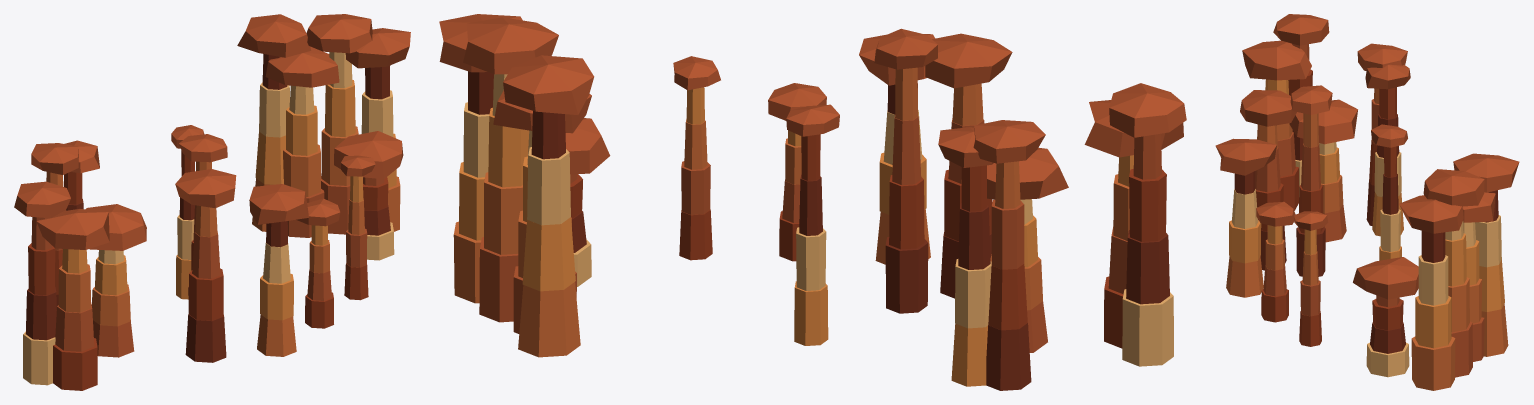
The model's file is W5_Mid_Hoodoos.fbx.
3 views of the same model, side by side, from view 1: azimuth 30°, elevation 25°; view 2: azimuth 150°, elevation 25°; view 3: azimuth 270°, elevation 25° (orthographic). The views are drawn at different scales.
Parts seen in each view (by area): view 1: W5_Mid_Hoodoos; view 2: W5_Mid_Hoodoos; view 3: W5_Mid_Hoodoos.
Boxes of the visible parts, bbox=[...] form: W5_Mid_Hoodoos: bbox=[14, 14, 410, 390]; W5_Mid_Hoodoos: bbox=[439, 14, 1186, 390]; W5_Mid_Hoodoos: bbox=[1215, 14, 1519, 390].
Size of the model in its own units: 96.7 by 41.19 by 58.72.
